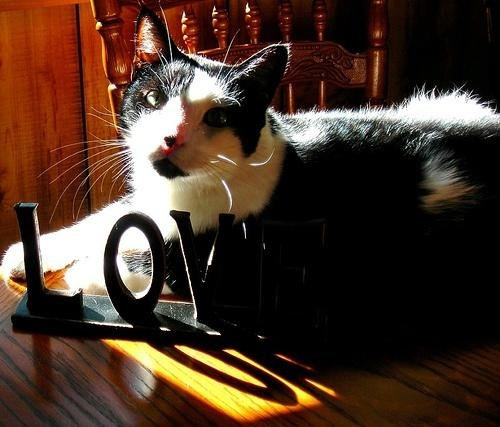cat: (11, 15, 496, 316)
